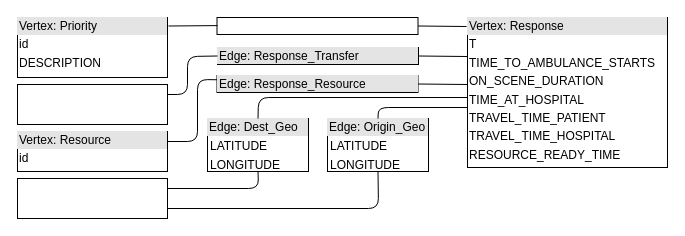
The diagram is 685 pixels wide and 236 high, and some of its shapes have lost their labels. Here are the shapes that lost their labels. From the top down, the centre of each, then its label:
At [317,25]: "Edge: Response_Priority".
At [92,104]: "Vertex: Transfer TRAVEL_TIME_STATION".
At [92,198]: "Vertex: Geo_Grid id".
